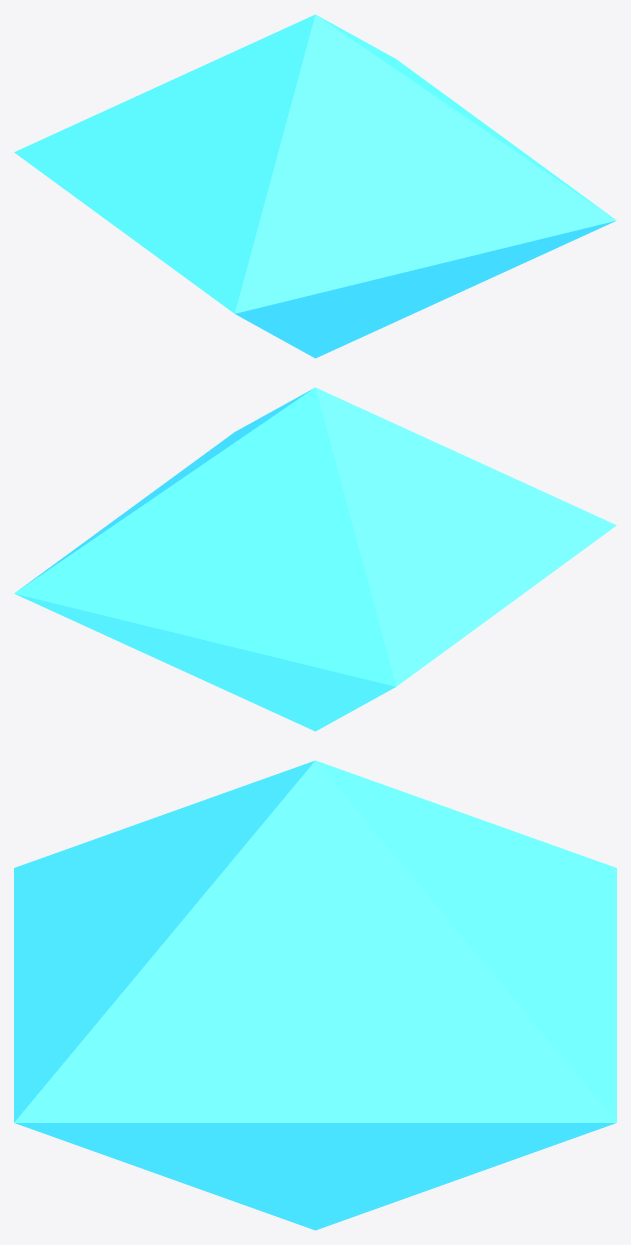
The model's file is energy_transporter.FBX.
3 renders of one model, top to bottom at view 1: azimuth 30°, elevation 25°; view 2: azimuth 150°, elevation 25°; view 3: azimuth 270°, elevation 25°, orthographic. The views are drawn at different scales.
Visible parts, largest first — view 1: Hedra01; view 2: Hedra01; view 3: Hedra01.
Boxes of the visible parts, bbox=[...] form: Hedra01: bbox=[14, 14, 616, 358]; Hedra01: bbox=[14, 387, 616, 731]; Hedra01: bbox=[14, 760, 616, 1230].
Size of the model in its own units: 96.68 by 83.17 by 96.68.
